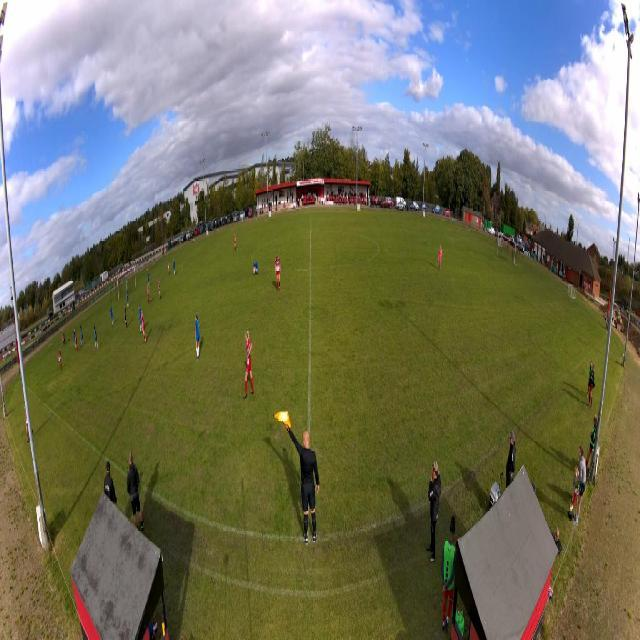player: (244, 329, 254, 400), (195, 313, 201, 361), (274, 254, 281, 293), (141, 311, 147, 343), (123, 303, 128, 329), (94, 326, 99, 351), (138, 304, 142, 333), (439, 244, 443, 272), (110, 305, 115, 326), (58, 349, 63, 370), (253, 261, 259, 277), (157, 275, 161, 299), (147, 285, 151, 309), (80, 325, 84, 347), (126, 289, 130, 309), (234, 234, 238, 253), (172, 257, 176, 276), (75, 334, 79, 353), (167, 258, 170, 276), (73, 326, 76, 344), (148, 271, 151, 287), (125, 279, 128, 293)
